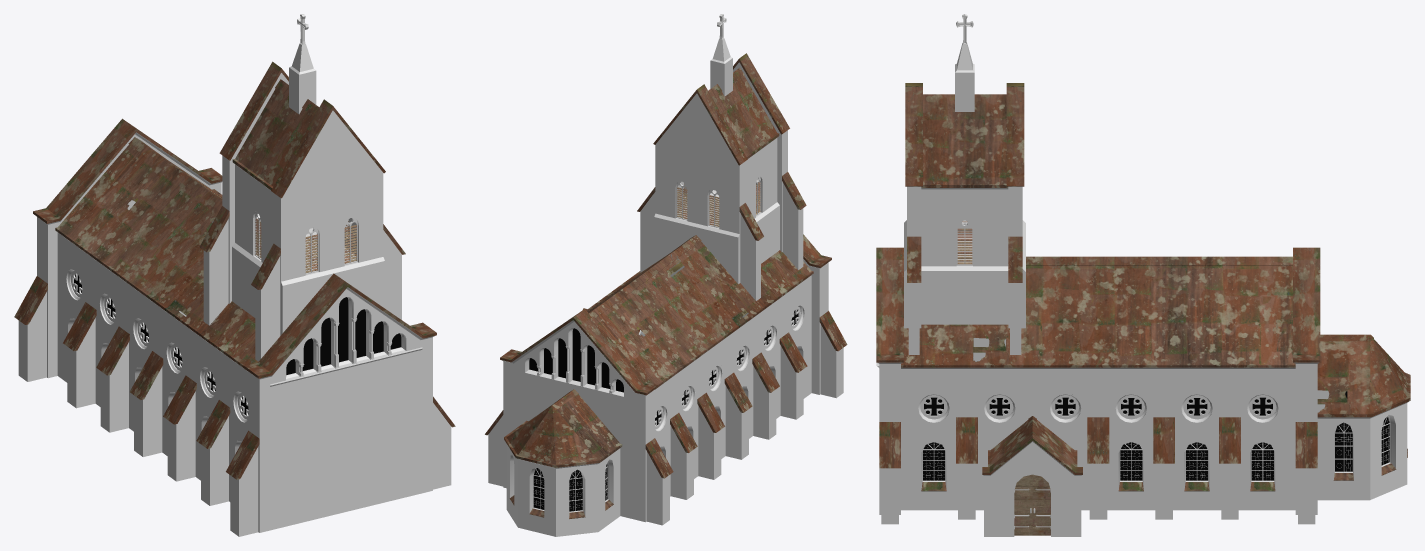
File: BigChurch.fbx
The picture shows the model from 3 angles, left to right: view 1: azimuth 30°, elevation 25°; view 2: azimuth 150°, elevation 25°; view 3: azimuth 270°, elevation 25°; orthographic projection. The views are drawn at different scales.
Parts seen in each view (by area): view 1: Church, Tower; view 2: Church, Tower; view 3: Church, Tower, DoorRight, DoorLeft.
Boxes of the visible parts, bbox=[...] form: Church: bbox=[14, 118, 455, 536]; Tower: bbox=[199, 43, 405, 361]; Church: bbox=[485, 234, 847, 536]; Tower: bbox=[637, 38, 806, 300]; Church: bbox=[876, 247, 1410, 536]; Tower: bbox=[904, 43, 1025, 359]; DoorRight: bbox=[1032, 474, 1050, 535]; DoorLeft: bbox=[1014, 474, 1032, 535].
Bounding box in the file's own units: 1767 × 3232 × 3411.
